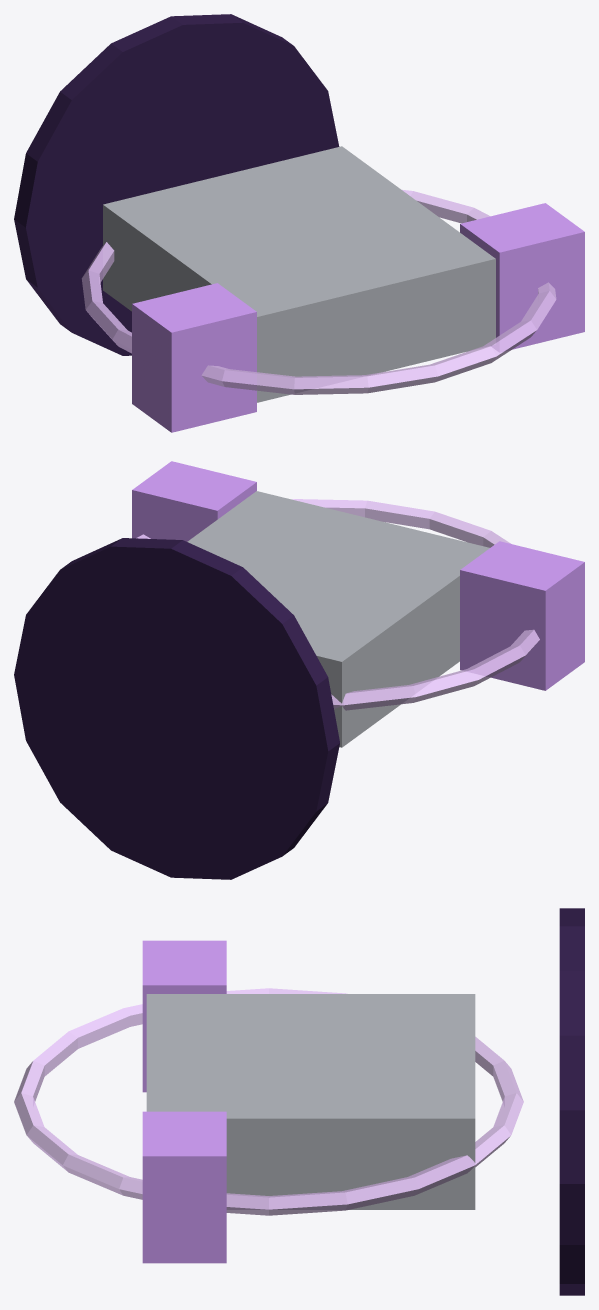
Rendered from 05_high_tier_magic_armor_aura.glb.
The picture shows the model from 3 angles, top to bottom: view 1: azimuth 30°, elevation 25°; view 2: azimuth 150°, elevation 25°; view 3: azimuth 270°, elevation 25°; orthographic projection. The views are drawn at different scales.
Parts seen in each view (by area): view 1: chest_plate_upgrade, armor_display_base, left_pauldron_upgrade, right_pauldron_upgrade, armor_barrier_ring; view 2: armor_display_base, chest_plate_upgrade, left_pauldron_upgrade, armor_barrier_ring, right_pauldron_upgrade; view 3: chest_plate_upgrade, armor_barrier_ring, right_pauldron_upgrade, armor_display_base, left_pauldron_upgrade.
Boxes of the visible parts, x1,y1,x2,y2 form: chest_plate_upgrade: (103,146,495,402); armor_display_base: (14,14,339,355); left_pauldron_upgrade: (132,283,256,432); right_pauldron_upgrade: (460,203,584,351); armor_barrier_ring: (81,189,556,394); armor_display_base: (14,538,339,879); chest_plate_upgrade: (187,491,489,747); left_pauldron_upgrade: (460,541,584,690); armor_barrier_ring: (136,499,539,710); right_pauldron_upgrade: (132,461,256,541); chest_plate_upgrade: (146,994,475,1209); armor_barrier_ring: (14,988,523,1215); right_pauldron_upgrade: (142,1111,226,1263); armor_display_base: (559,908,584,1295); left_pauldron_upgrade: (142,940,226,1092).
Bounding box in the file's own units: 1.21 × 0.92 × 1.36.
